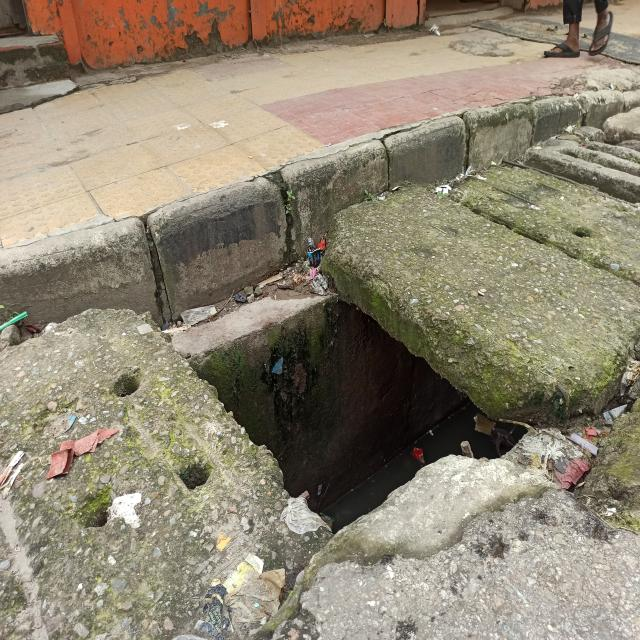drain_inlet: (183, 278, 530, 532)
